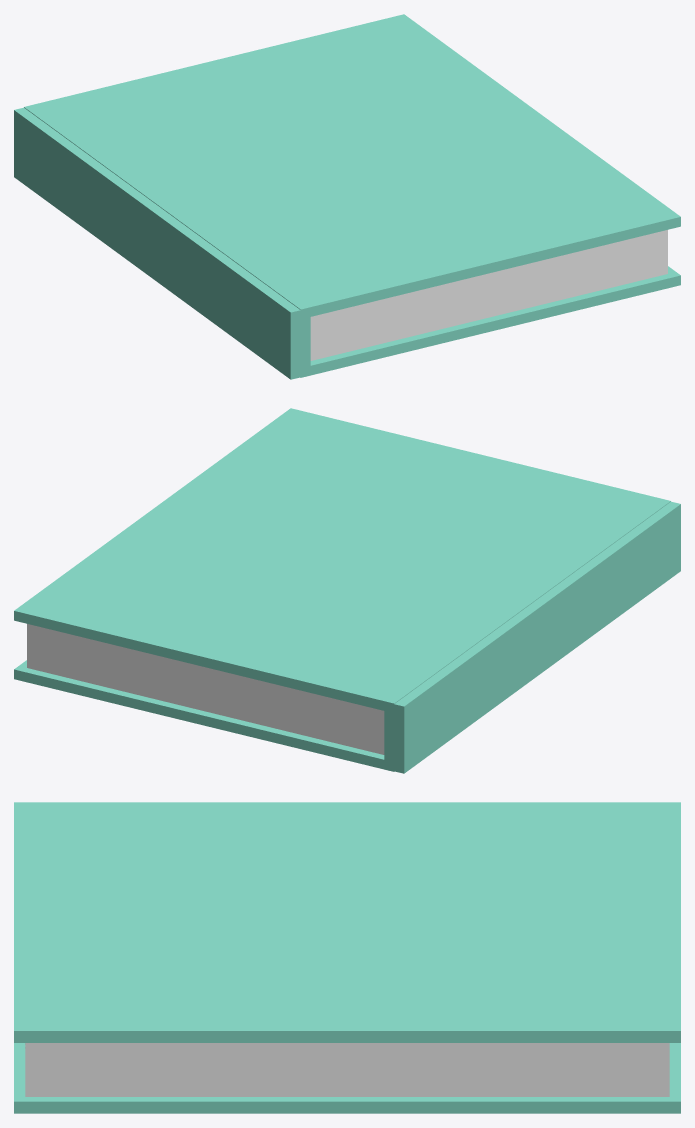
3 views of the same model, one above another, from view 1: azimuth 30°, elevation 25°; view 2: azimuth 150°, elevation 25°; view 3: azimuth 270°, elevation 25° (orthographic). The views are drawn at different scales.
Parts seen in each view (by area): view 1: Cover.001, Spine, Pages, Cover; view 2: Cover.001, Spine, Pages, Cover; view 3: Cover.001, Pages, Cover, Spine.
Part boxes in pixels (x1,y1,x2,y2): Cover.001: (24, 14, 680, 319); Spine: (14, 107, 310, 379); Pages: (310, 230, 667, 360); Cover: (300, 266, 680, 377); Cover.001: (14, 408, 670, 712); Spine: (384, 501, 680, 773); Pages: (27, 624, 384, 754); Cover: (14, 660, 394, 771); Cover.001: (14, 807, 680, 1042); Pages: (25, 1043, 669, 1096); Cover: (14, 1043, 680, 1113); Spine: (14, 802, 680, 807).
Size of the model in its own units: 20.06 by 3.36 by 24.65.
